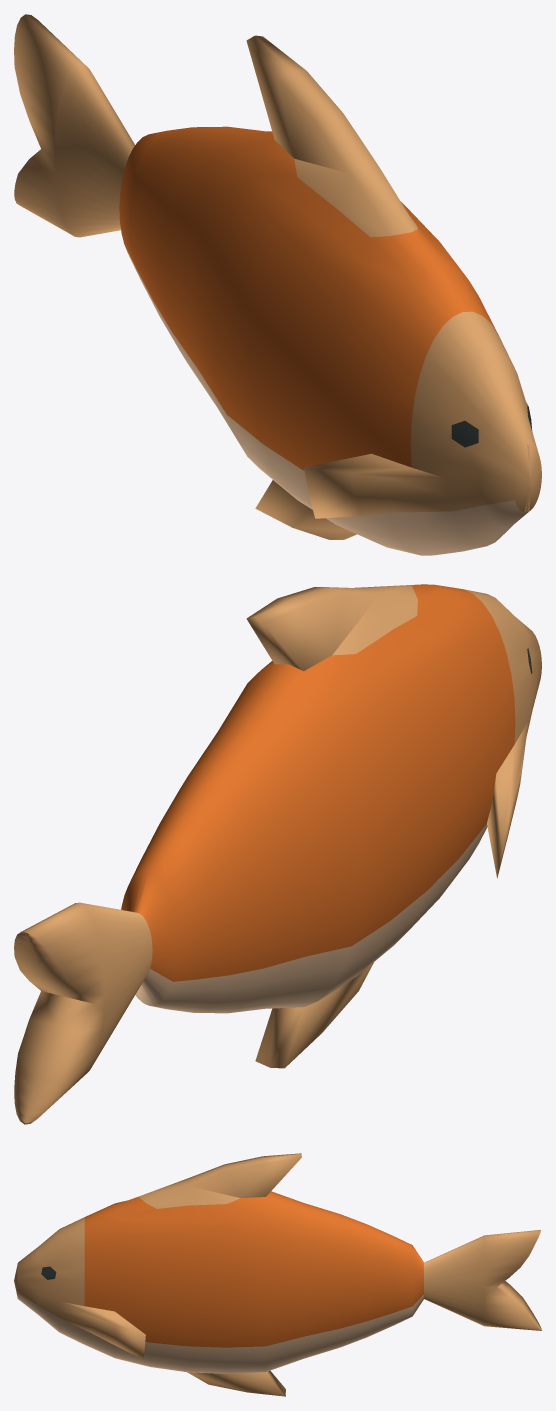
Rendered from fish.fbx.
3 renders of one model, top to bottom at view 1: azimuth 30°, elevation 25°; view 2: azimuth 150°, elevation 25°; view 3: azimuth 270°, elevation 25°, orthographic. The views are drawn at different scales.
Parts seen in each view (by area): view 1: Sphere; view 2: Sphere; view 3: Sphere.
Part boxes in pixels (left/top/right/bottom): Sphere: left=14, top=14, right=541, bottom=555; Sphere: left=14, top=584, right=541, bottom=1124; Sphere: left=14, top=1153, right=541, bottom=1396.
Size of the model in its own units: 120 by 264 by 525.
